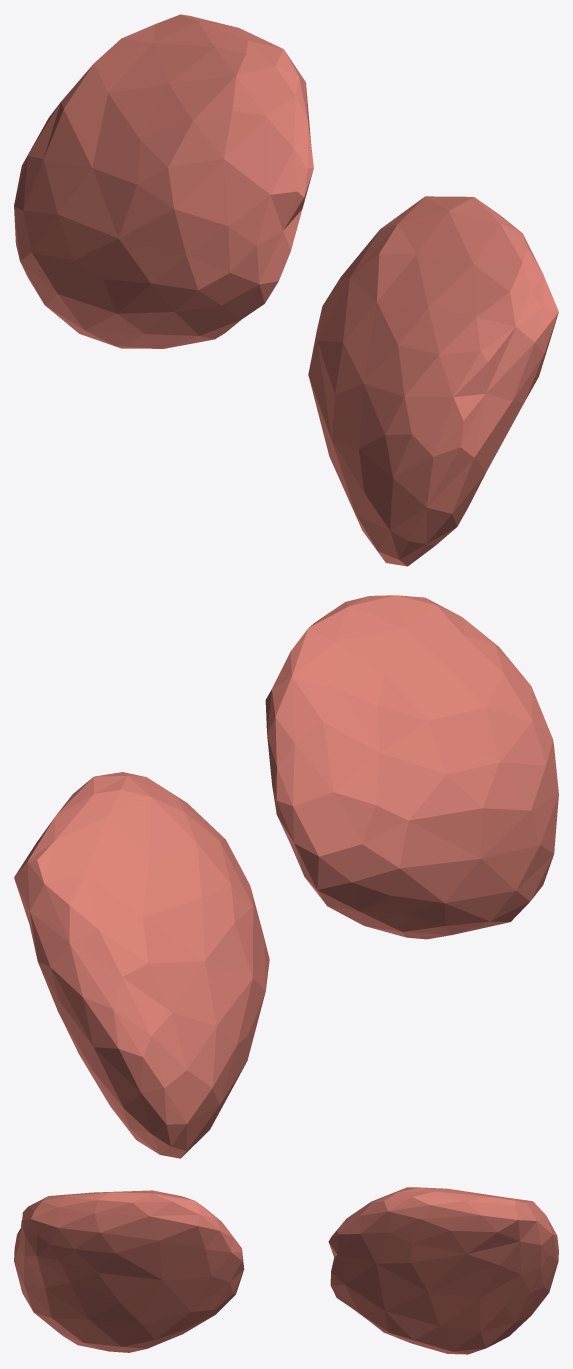
3 views of the same model, one above another, from view 1: azimuth 30°, elevation 25°; view 2: azimuth 150°, elevation 25°; view 3: azimuth 270°, elevation 25° (orthographic). The views are drawn at different scales.
Visible parts, largest first — view 1: 980.obj; view 2: 980.obj; view 3: 980.obj.
Boxes of the visible parts, x1,y1,x2,y2 form: 980.obj: (14,14,558,566); 980.obj: (14,595,558,1158); 980.obj: (14,1187,558,1354).
Size of the model in its own units: 369 by 549 by 1390.
